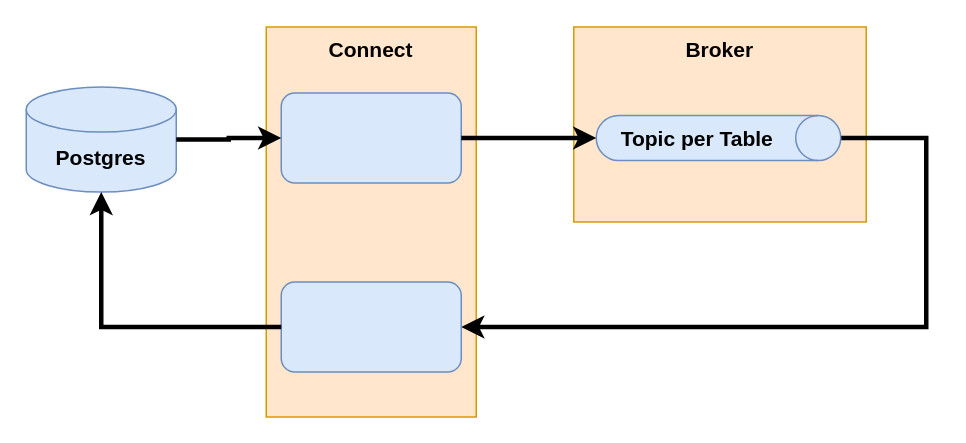
This 966x443 diagram has some shape labels left out. Each missing label, with the centre of its shape:
CDC Connector <Sink>: the point at 370,326
CDC Connector <Source>: the point at 370,137
